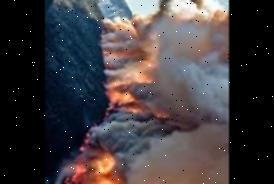fire: (63, 134, 139, 184), (96, 24, 134, 118)
